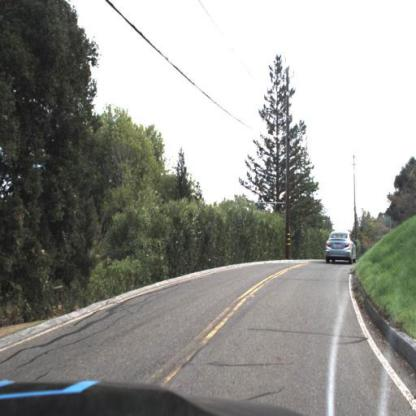car: (324, 231, 360, 271)
